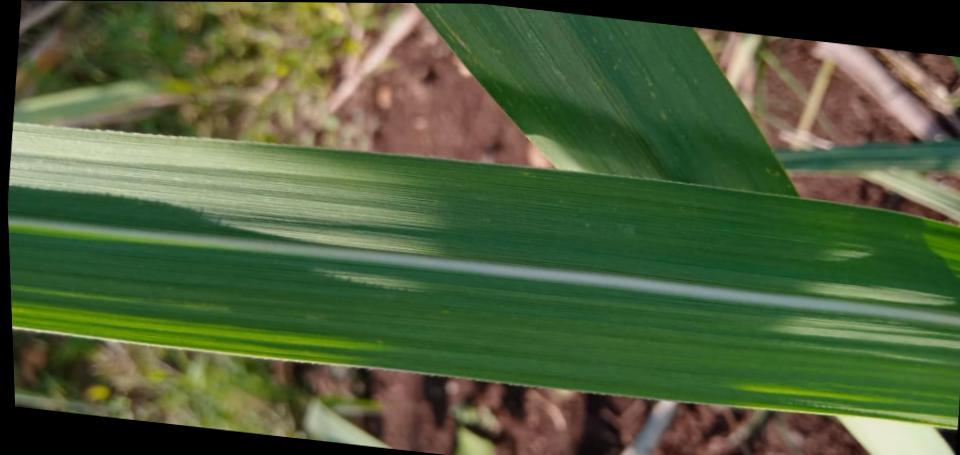Healthy: (8, 229, 960, 426), (8, 121, 960, 310), (415, 3, 800, 197)
